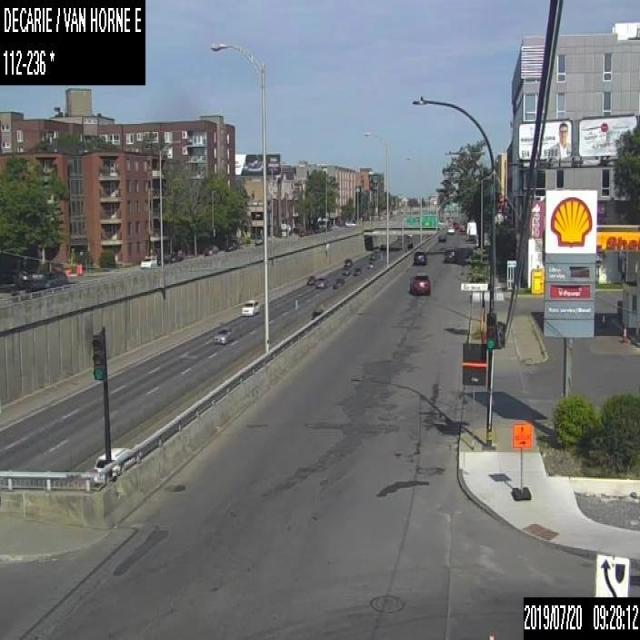construction: (510, 421, 532, 500), (620, 324, 626, 340), (78, 263, 82, 275), (601, 313, 604, 322), (76, 263, 78, 275)
vehicle: (92, 445, 130, 483), (409, 272, 430, 295), (240, 296, 260, 315), (212, 327, 233, 344), (310, 304, 325, 320), (139, 253, 156, 267), (443, 247, 458, 261), (202, 243, 218, 255), (413, 251, 426, 264), (315, 277, 327, 288), (224, 240, 238, 249), (332, 277, 344, 287), (340, 266, 350, 276), (342, 257, 351, 267), (306, 274, 315, 284), (352, 266, 362, 274), (438, 232, 446, 241), (446, 225, 454, 233), (254, 236, 262, 244), (366, 261, 374, 267)
